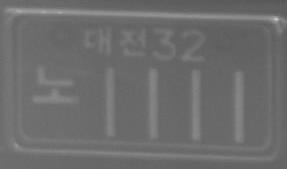1: (135, 65, 172, 141), (177, 68, 215, 142), (93, 65, 130, 140), (221, 69, 257, 145)
2: (179, 27, 209, 63)
3: (149, 25, 178, 62)
노: (31, 63, 80, 106)
대전_O: (83, 22, 147, 59)
